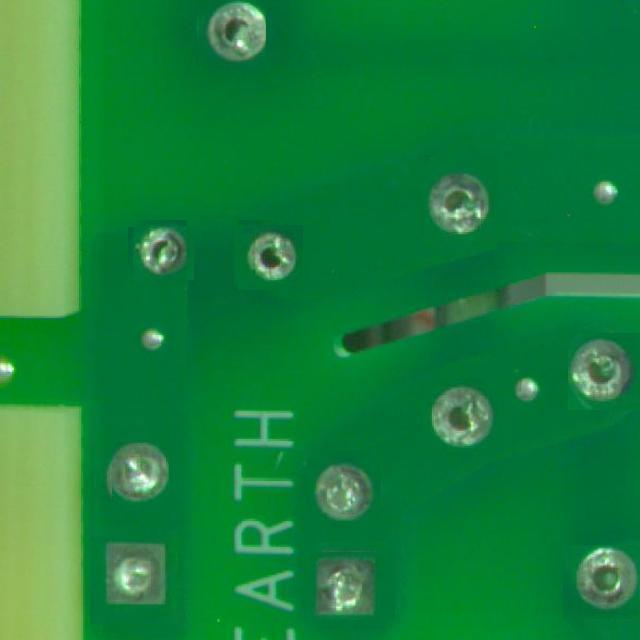lack_of_part: (90, 535, 182, 624), (423, 154, 498, 250), (312, 547, 391, 625), (564, 543, 640, 619), (424, 377, 499, 452), (568, 333, 640, 410), (310, 451, 381, 522), (197, 0, 266, 69), (236, 223, 300, 287), (109, 445, 172, 509), (131, 224, 191, 283)
